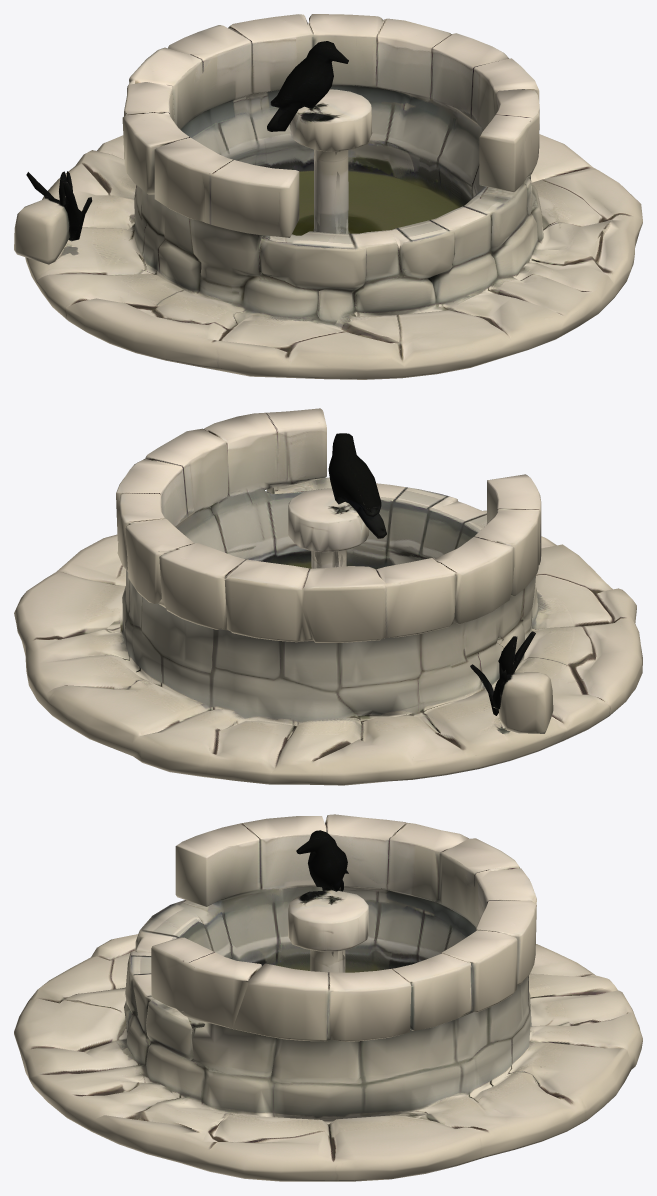
The model's file is estate_dry_fountain.glb.
The picture shows the model from 3 angles, top to bottom: view 1: azimuth 30°, elevation 25°; view 2: azimuth 150°, elevation 25°; view 3: azimuth 270°, elevation 25°; orthographic projection. The views are drawn at different scales.
Bounding box in the file's own units: 1.89 × 0.7554 × 1.9.
Materials: 1 (1 with a texture image).
